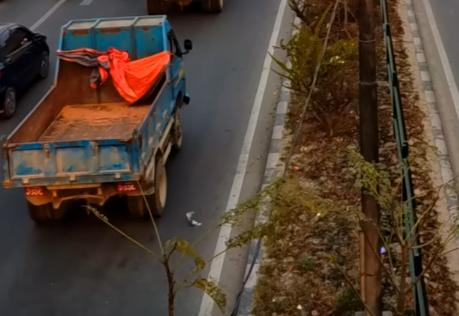car: (0, 13, 52, 114)
mini_truck: (5, 17, 191, 219)
